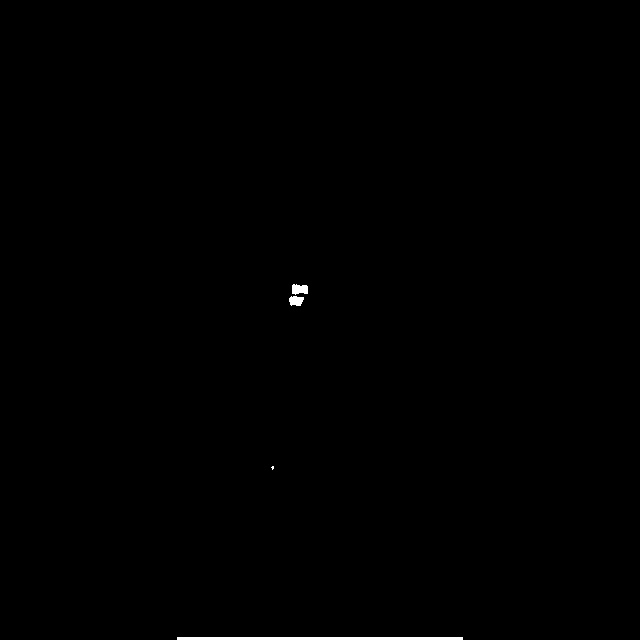03_intrusion: (287, 278, 307, 310), (266, 460, 276, 475)
